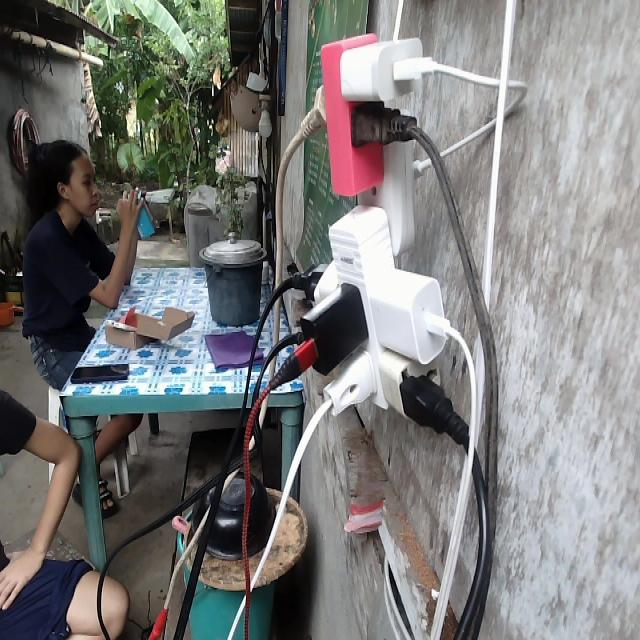-: (292, 28, 467, 429)
